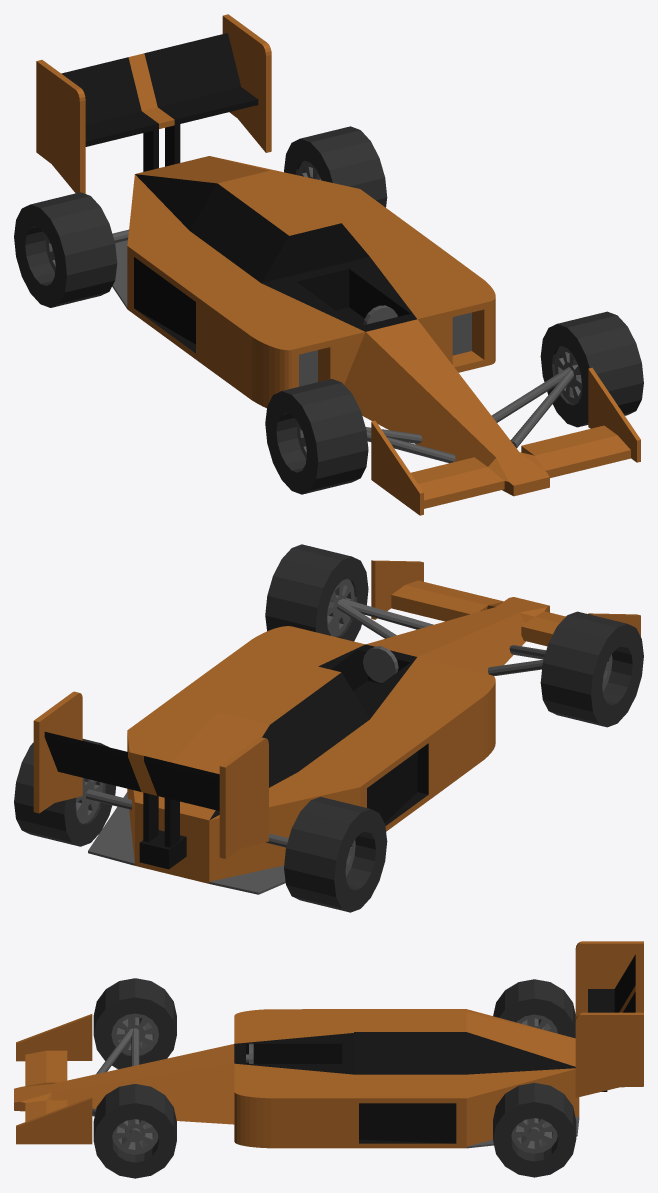
The model's file is F1Car(Old).fbx.
3 views of the same model, one above another, from view 1: azimuth 30°, elevation 25°; view 2: azimuth 150°, elevation 25°; view 3: azimuth 270°, elevation 25° (orthographic). The views are drawn at different scales.
Parts seen in each view (by area): view 1: MainFrame, RRightTire, FRightTire, FLeftTire, RLeftTire; view 2: MainFrame, RRightTire, FRightTire, FLeftTire, RLeftTire; view 3: MainFrame, FLeftTire, RLeftTire, FRightTire, RRightTire.
Boxes of the visible parts, x1=… form: MainFrame: x1=36, y1=14, x2=640, y2=515; RRightTire: x1=14, y1=192, x2=117, y2=307; FRightTire: x1=265, y1=379, x2=368, y2=494; FLeftTire: x1=540, y1=311, x2=643, y2=427; RLeftTire: x1=284, y1=126, x2=387, y2=207; MainFrame: x1=33, y1=560, x2=640, y2=894; RRightTire: x1=284, y1=796, x2=387, y2=912; FRightTire: x1=540, y1=611, x2=643, y2=727; FLeftTire: x1=265, y1=544, x2=368, y2=641; RLeftTire: x1=14, y1=739, x2=116, y2=846; MainFrame: x1=14, y1=941, x2=643, y2=1148; FLeftTire: x1=93, y1=1084, x2=176, y2=1178; RLeftTire: x1=493, y1=1082, x2=576, y2=1177; FRightTire: x1=93, y1=978, x2=176, y2=1069; RRightTire: x1=493, y1=979, x2=575, y2=1038.
Size of the model in its own units: 168 by 86.9 by 358.
